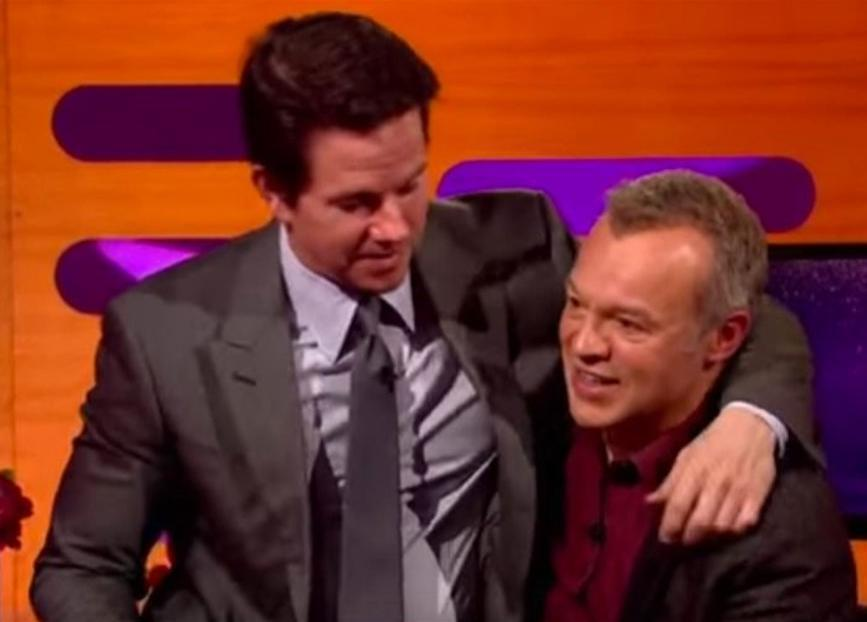Drunk: (562, 245, 702, 424), (316, 123, 427, 289)
